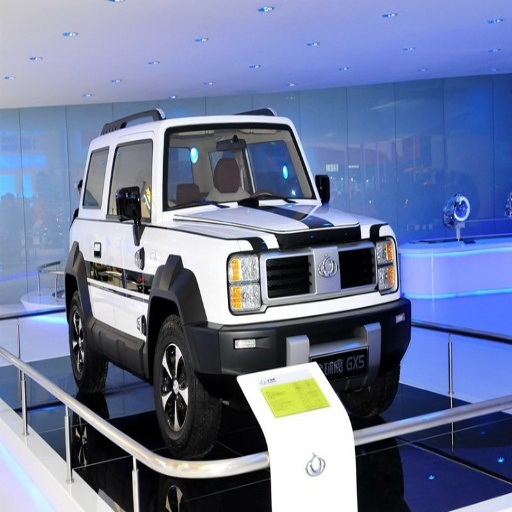front_bumper: (248, 227, 408, 390), (42, 426, 155, 511), (217, 316, 292, 372)
front_right_door: (104, 138, 152, 335)
front_right_light: (227, 238, 260, 305)
hood: (178, 199, 356, 233)
